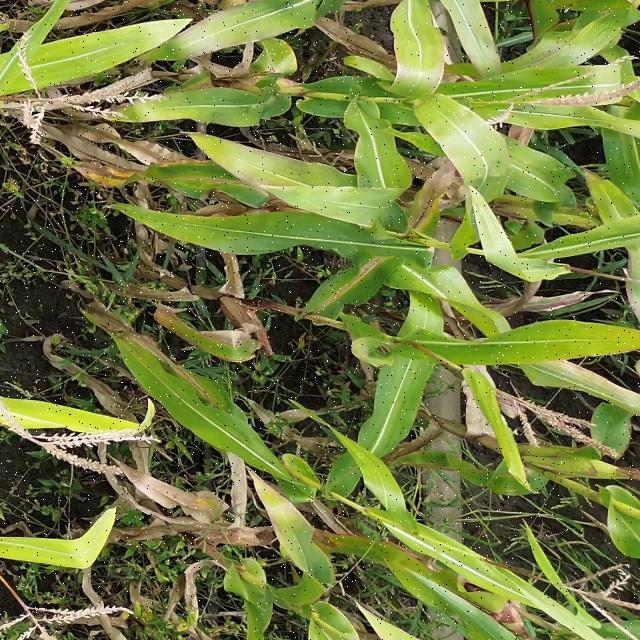northern-leaf-blight: (249, 478, 387, 592), (218, 134, 380, 223), (146, 302, 281, 378), (110, 161, 287, 216), (295, 239, 408, 325)
